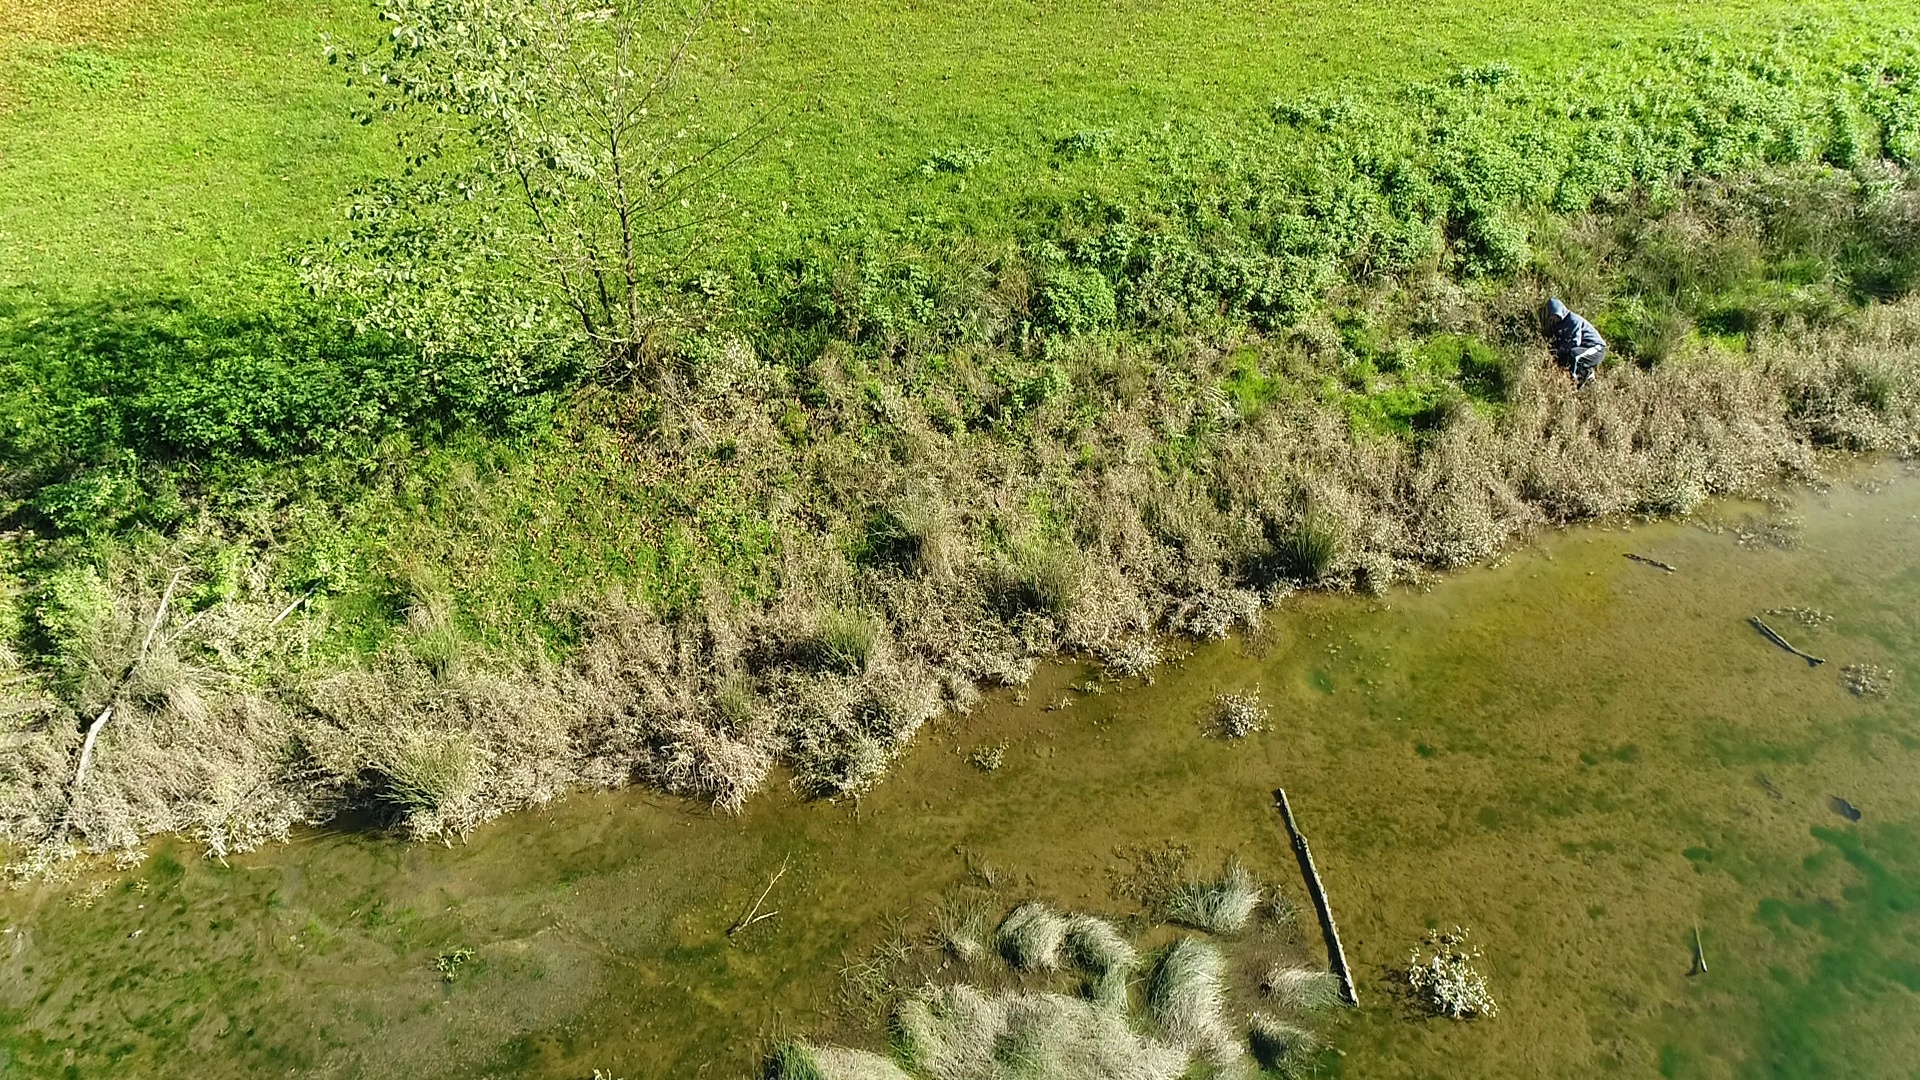not_defined: (1543, 293, 1609, 392)
